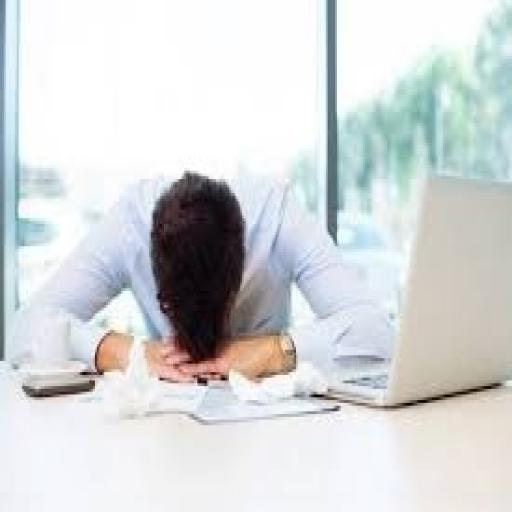sleeping: (9, 162, 395, 389)
